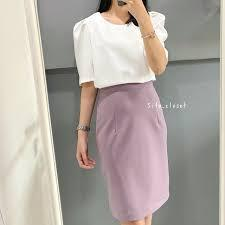Tshirt: (62, 13, 173, 87)
skirt: (94, 80, 172, 225)
